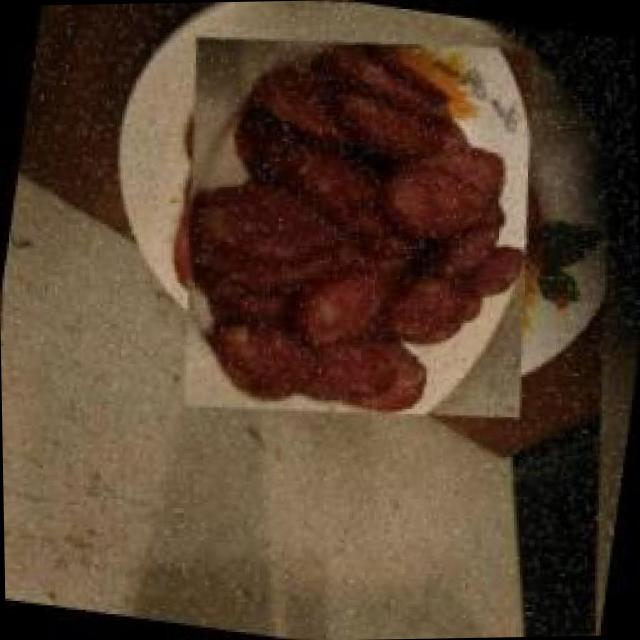chinese_sausage: (132, 3, 583, 454)
